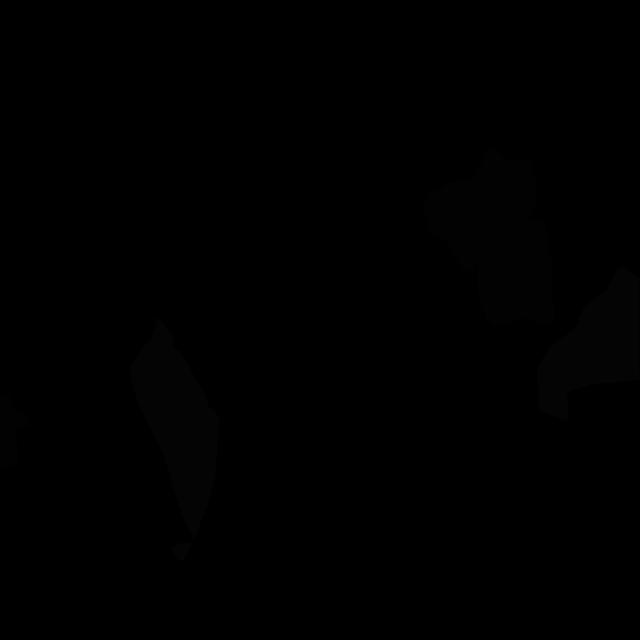cardboard: (423, 144, 536, 272), (475, 220, 554, 327), (0, 394, 30, 472)
soft_plastic: (130, 317, 220, 540), (537, 266, 640, 421), (171, 543, 192, 560)
